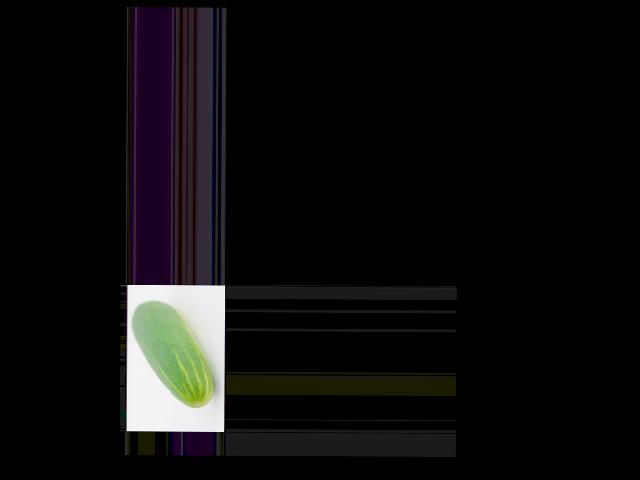cucumber: (131, 300, 214, 407)
